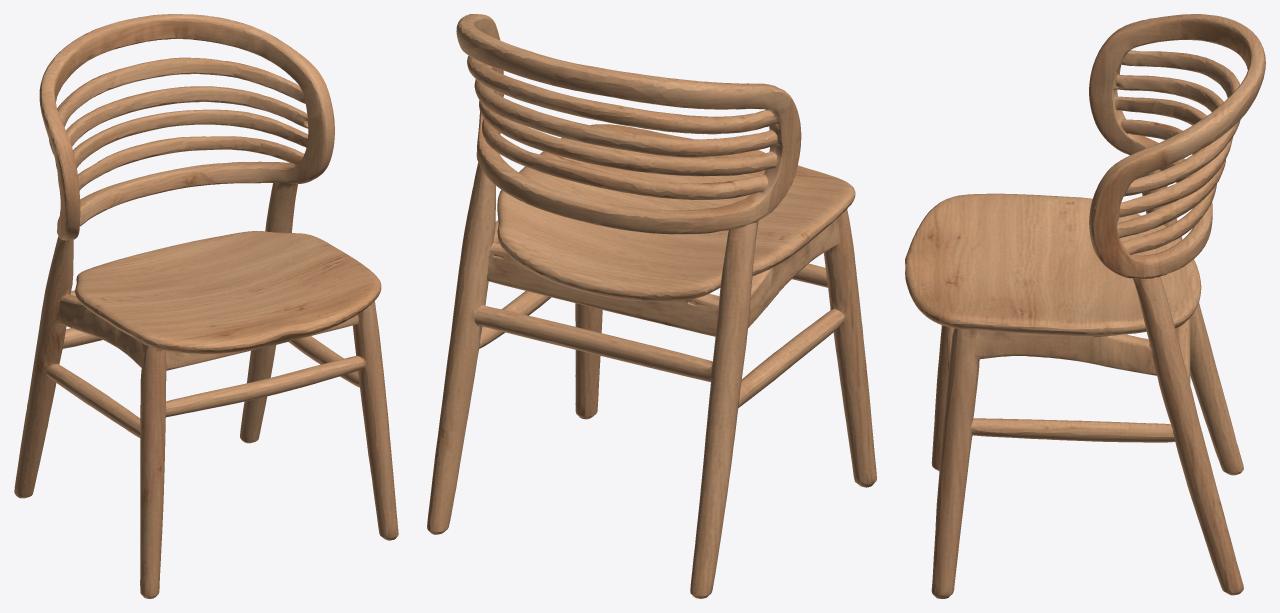
The model's file is L_DINING_CHAIR.glb.
The picture shows the model from 3 angles, left to right: view 1: azimuth 30°, elevation 25°; view 2: azimuth 150°, elevation 25°; view 3: azimuth 270°, elevation 25°; orthographic projection. The views are drawn at different scales.
Parts seen in each view (by area): view 1: world; view 2: world; view 3: world.
Boxes of the visible parts, x1=… form: world: x1=14, y1=14, x2=398, y2=598; world: x1=427, y1=14, x2=876, y2=598; world: x1=905, y1=14, x2=1265, y2=598.
Size of the model in its own units: 0.5285 by 0.82 by 0.5611.
1 material, 1 textured.
